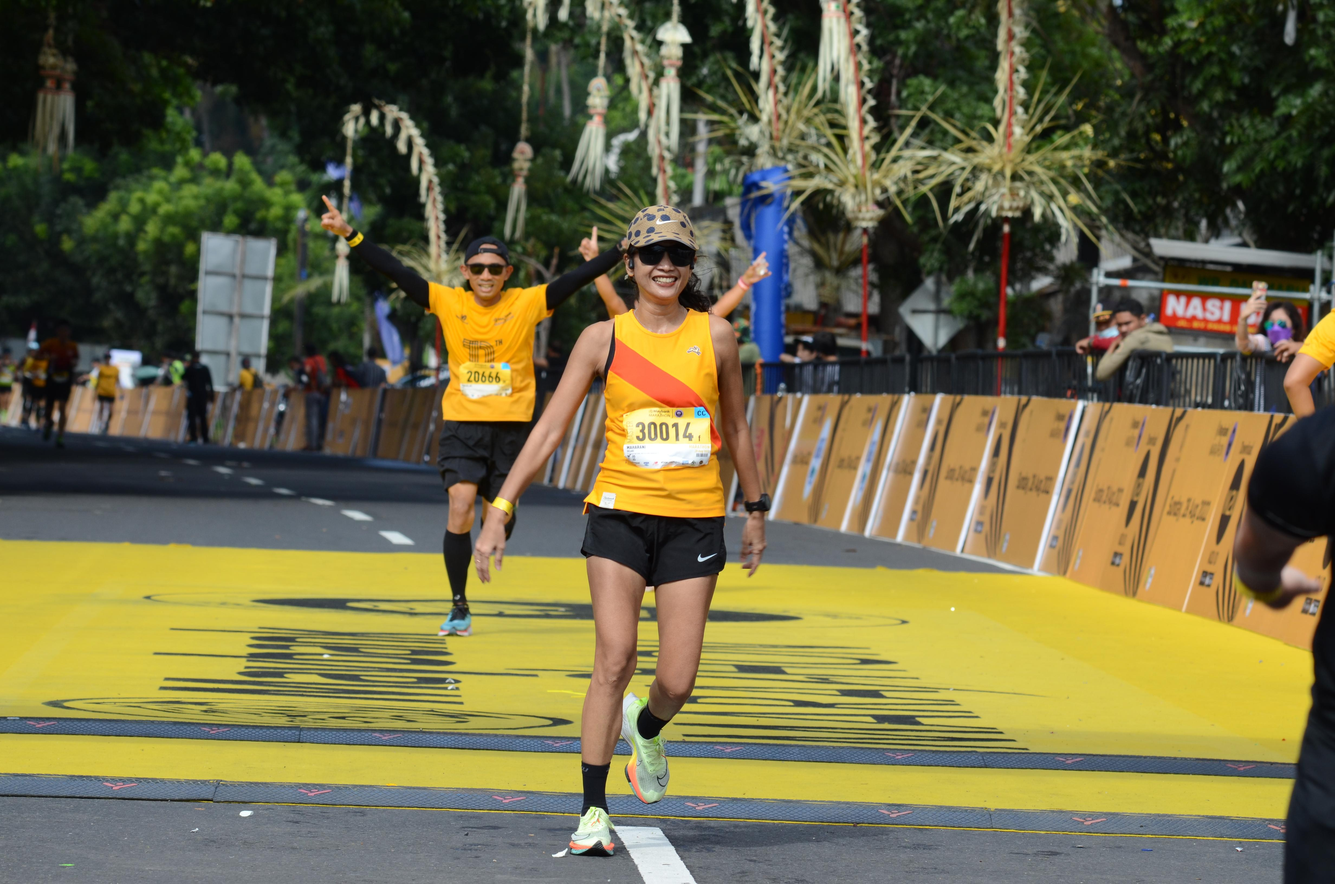bib: (622, 409, 711, 466), (458, 363, 513, 396)
